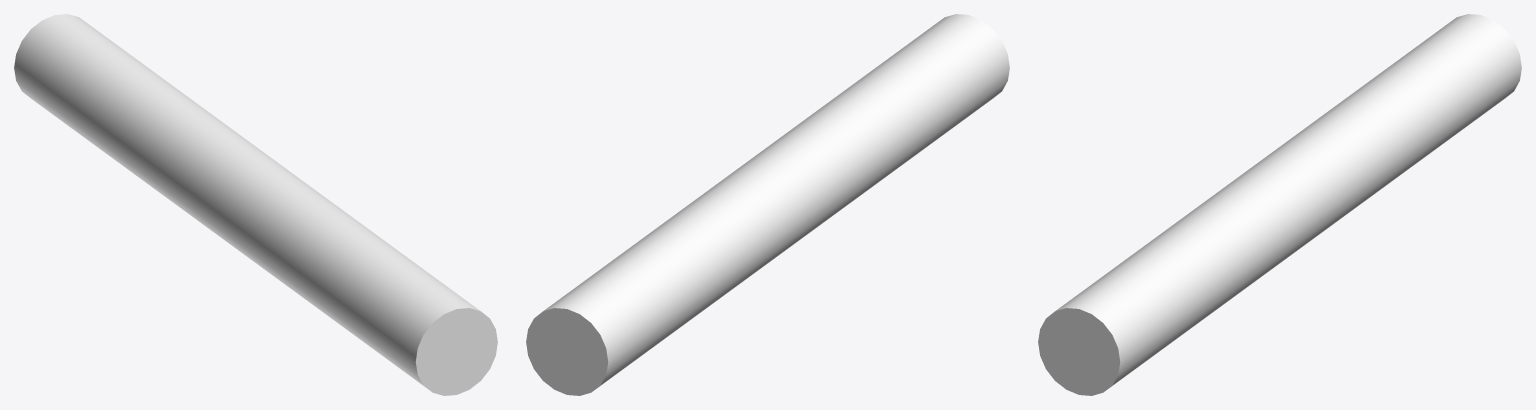
File: gizmoMoveZ.fbx
3 views of the same model, side by side, from view 1: azimuth 30°, elevation 25°; view 2: azimuth 150°, elevation 25°; view 3: azimuth 330°, elevation 25° (orthographic).
Visible parts, largest first — view 1: gizmoMoveZ; view 2: gizmoMoveZ; view 3: gizmoMoveZ.
Part boxes in pixels (x1,y1,x2,y2): gizmoMoveZ: [14, 14, 497, 395]; gizmoMoveZ: [526, 14, 1009, 395]; gizmoMoveZ: [1038, 14, 1521, 395].
Bounding box in the file's own units: 3.6 × 3.6 × 30.48.
1 material, 1 textured.
